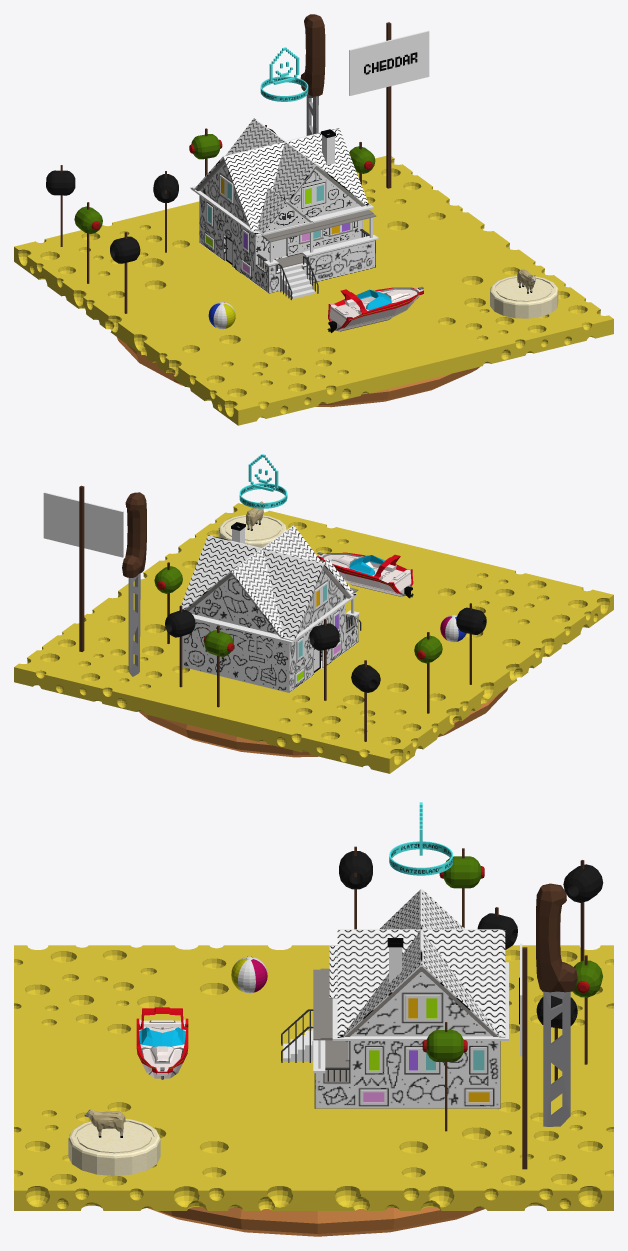
The picture shows the model from 3 angles, top to bottom: view 1: azimuth 30°, elevation 25°; view 2: azimuth 150°, elevation 25°; view 3: azimuth 270°, elevation 25°; orthographic projection. The views are drawn at different scales.
Visible parts, largest first — view 1: Cube.022, Cube.879, Cube.023, VEHICLES_BOAT, Cylinder.016, Cube.024, UNDERGROUND_PIZZA, TYPE_PREMIUM, Sphere.017, Sphere.016, Sphere.018, Sphere.022 (+3 smaller); view 2: Cube.022, Cube.879, Cube.023, Cube.024, VEHICLES_BOAT, UNDERGROUND_PIZZA, Cylinder.016, TYPE_PREMIUM, Sphere.021, Sphere.020, Sphere.017, Sphere.022 (+4 smaller); view 3: Cube.022, Cube.879, Cube.024, UNDERGROUND_PIZZA, Cylinder.016, VEHICLES_BOAT, Cube.023, Sphere.016, Sphere.019, TYPE_PREMIUM, Sphere.017, Sphere.018 (+5 smaller).
Boxes of the visible parts, x1,y1,x2,y2 form: Cube.022: [14, 156, 613, 425]; Cube.879: [190, 118, 378, 300]; Cube.023: [349, 22, 429, 188]; VEHICLES_BOAT: [327, 286, 423, 332]; Cylinder.016: [490, 276, 558, 318]; Cube.024: [300, 14, 325, 135]; UNDERGROUND_PIZZA: [117, 337, 479, 407]; TYPE_PREMIUM: [260, 47, 308, 101]; Sphere.017: [110, 232, 140, 313]; Sphere.016: [46, 165, 75, 246]; Sphere.018: [74, 202, 102, 283]; Sphere.022: [189, 128, 222, 176]; Cube.022: [14, 503, 613, 773]; Cube.879: [178, 522, 361, 692]; Cube.023: [43, 485, 123, 651]; Cube.024: [122, 492, 146, 676]; VEHICLES_BOAT: [317, 552, 413, 598]; UNDERGROUND_PIZZA: [139, 687, 508, 757]; Cylinder.016: [218, 515, 286, 547]; TYPE_PREMIUM: [239, 454, 287, 508]; Sphere.021: [165, 605, 195, 687]; Sphere.020: [309, 619, 339, 700]; Sphere.017: [456, 603, 486, 684]; Sphere.022: [203, 625, 234, 707]; Cube.022: [14, 945, 613, 1210]; Cube.879: [281, 889, 508, 1108]; Cube.024: [536, 883, 577, 1126]; UNDERGROUND_PIZZA: [148, 1207, 484, 1236]; Cylinder.016: [68, 1119, 160, 1175]; VEHICLES_BOAT: [136, 1007, 188, 1079]; Cube.023: [519, 943, 527, 1169]; Sphere.016: [563, 860, 603, 961]; Sphere.019: [422, 1022, 467, 1131]; TYPE_PREMIUM: [389, 802, 452, 875]; Sphere.017: [339, 846, 372, 929]; Sphere.018: [439, 848, 484, 927].
Size of the model in its own units: 3917 by 2436 by 4000.
Materials: 44 (11 with a texture image).
